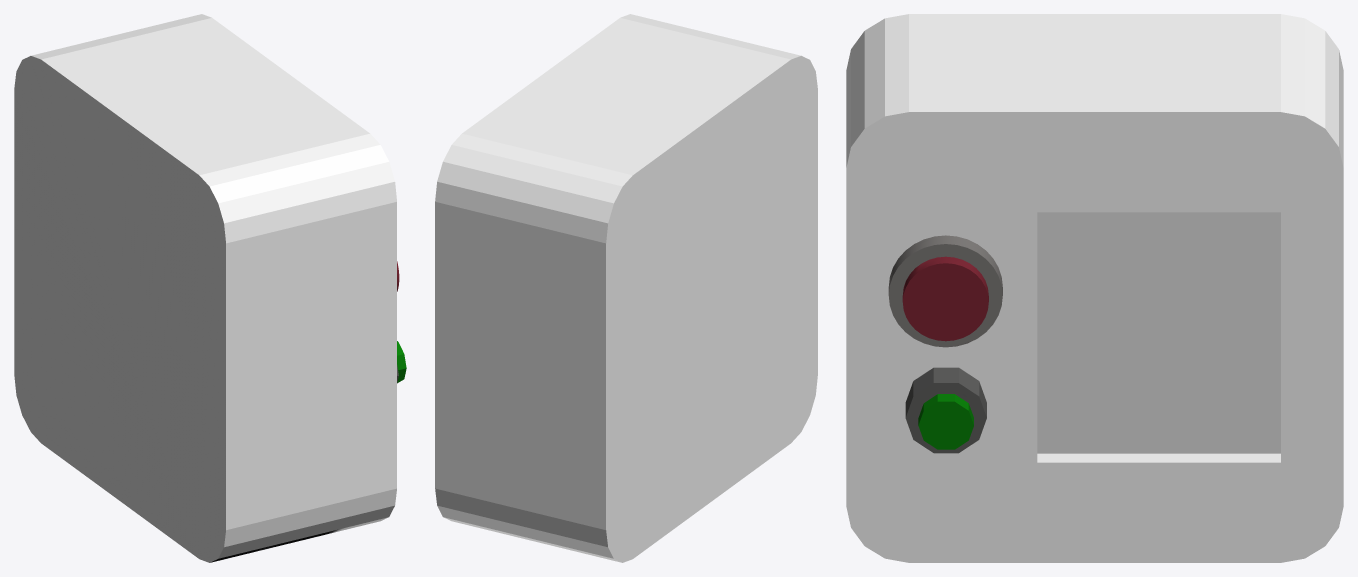
Rendered from ControlPane1l.fbx.
3 views of the same model, side by side, from view 1: azimuth 30°, elevation 25°; view 2: azimuth 150°, elevation 25°; view 3: azimuth 270°, elevation 25° (orthographic). The views are drawn at different scales.
Parts seen in each view (by area): view 1: Panel; view 2: Panel; view 3: Panel, Screen, ButtonBig.001, Button.005.
Boxes of the visible parts, box(x1,y1,x2,y2) form: Panel: box(14, 14, 396, 562); Panel: box(435, 14, 817, 562); Panel: box(846, 14, 1343, 562); Screen: box(1037, 212, 1280, 453); ButtonBig.001: box(888, 235, 1002, 347); Button.005: box(905, 367, 986, 453).
Bounding box in the file's own units: 60.05 × 104 × 104.
